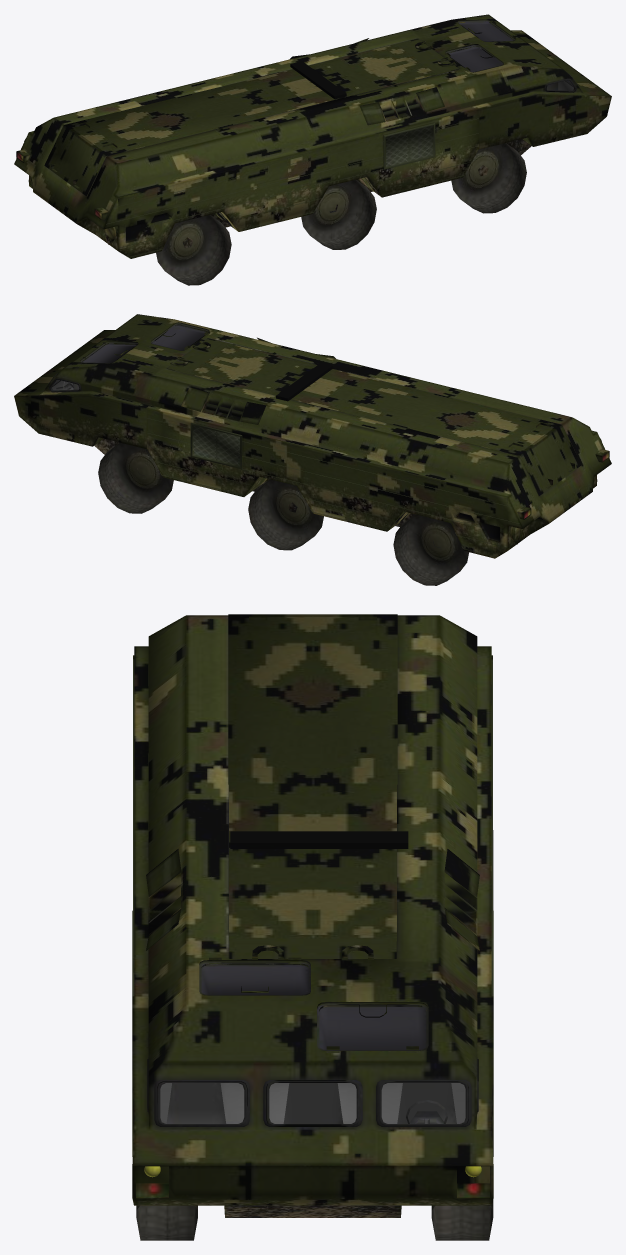
The model's file is tochka.glb.
3 renders of one model, top to bottom at view 1: azimuth 30°, elevation 25°; view 2: azimuth 150°, elevation 25°; view 3: azimuth 270°, elevation 25°, orthographic. The views are drawn at different scales.
Parts seen in each view (by area): view 1: g_tochka_hull; view 2: g_tochka_hull; view 3: g_tochka_hull.
Boxes of the visible parts, <box> form: g_tochka_hull: <box>14,14,611,285</box>; g_tochka_hull: <box>14,314,611,585</box>; g_tochka_hull: <box>132,614,493,1240</box>.
Bounding box in the file's own units: 9.4 × 2.35 × 2.87.
Materials: 2 (2 with a texture image).
